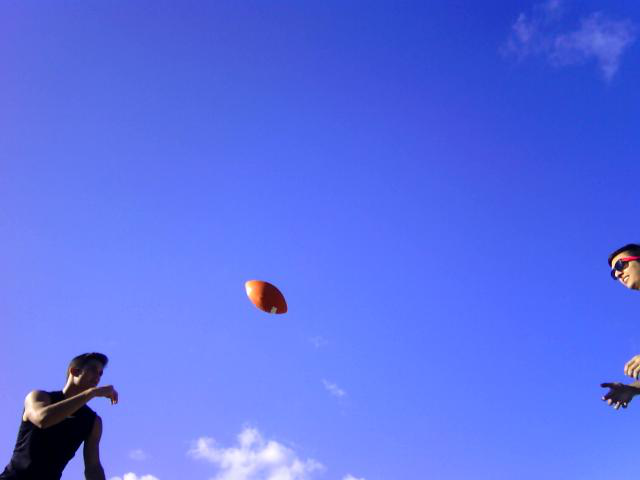football: (241, 278, 291, 318)
